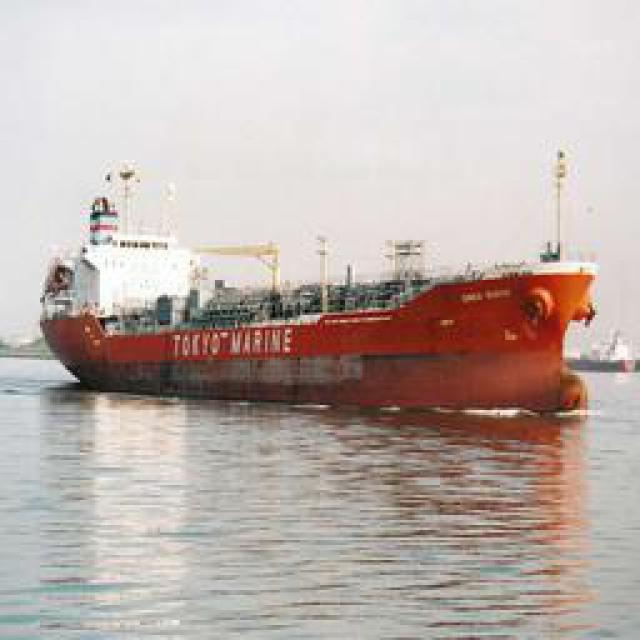Ship: (52, 171, 600, 409)
